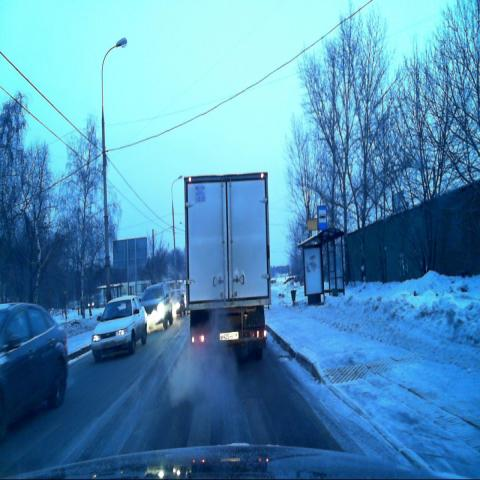5_16: (317, 205, 327, 230)
